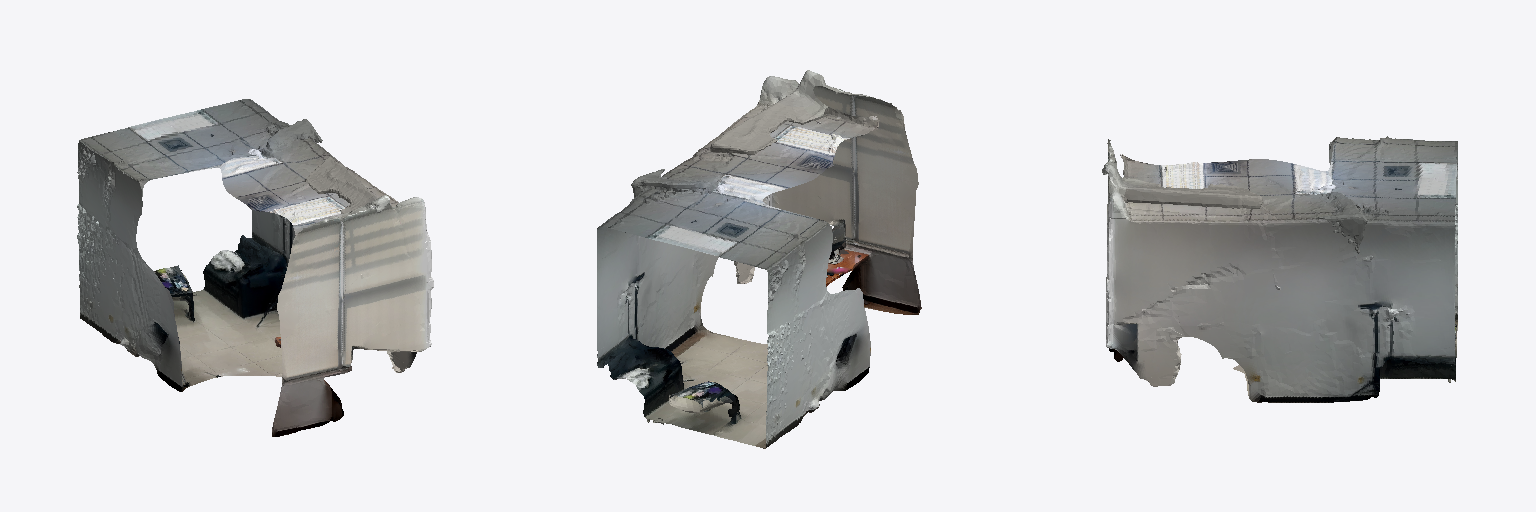
3 views of the same model, side by side, from view 1: azimuth 30°, elevation 25°; view 2: azimuth 150°, elevation 25°; view 3: azimuth 270°, elevation 25° (orthographic).
Bounding box in the file's own units: 2.94 × 3.38 × 4.85.
Materials: 1 (1 with a texture image).